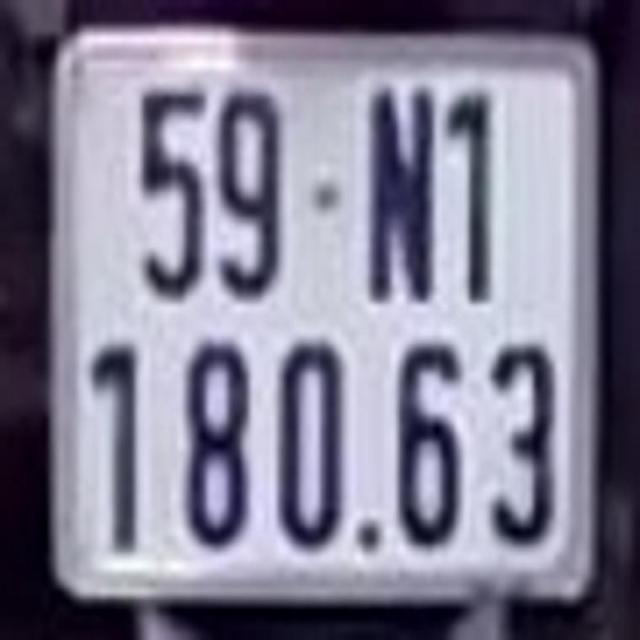0: (277, 341, 342, 544)
1: (89, 343, 146, 552), (445, 89, 491, 297)
3: (488, 343, 554, 539)
5: (140, 96, 208, 296)
6: (397, 343, 459, 546)
8: (183, 343, 249, 546)
9: (216, 95, 286, 300)
N: (367, 88, 430, 303)
